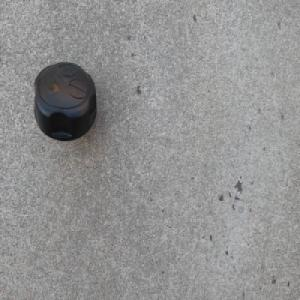FuelCap: (33, 60, 97, 143)
